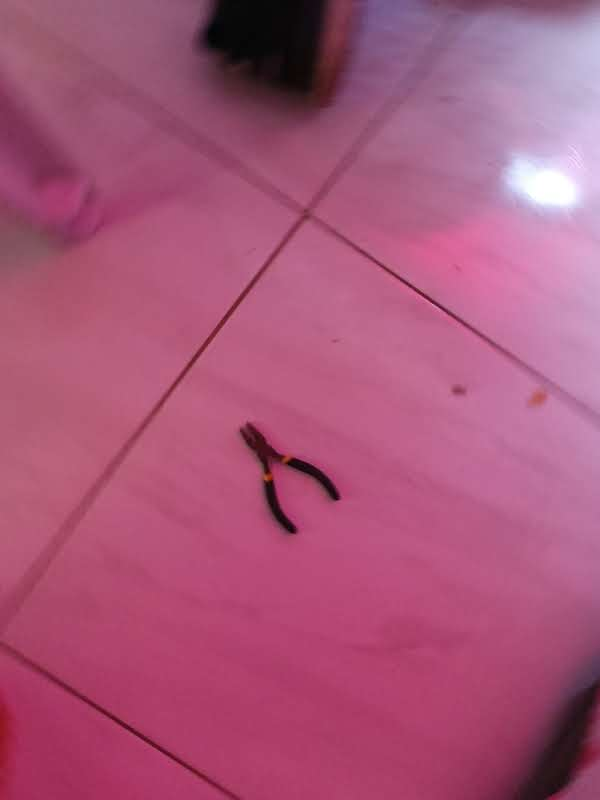Pinzas: (239, 423, 340, 533)
